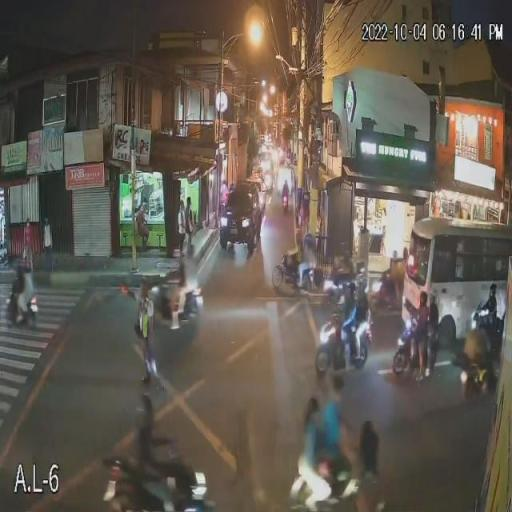helmet: (10, 253, 24, 266), (354, 276, 366, 289), (330, 278, 342, 290)
motorcycle: (100, 451, 211, 511), (281, 457, 383, 511), (316, 307, 370, 377), (456, 340, 495, 404), (391, 313, 429, 378), (155, 281, 206, 329), (270, 251, 313, 294), (470, 302, 508, 348), (6, 280, 40, 330), (280, 194, 290, 211)
rider: (135, 391, 191, 503), (308, 380, 349, 485), (328, 283, 355, 359), (166, 255, 192, 330), (463, 323, 495, 382), (11, 254, 34, 318), (352, 283, 370, 358), (482, 282, 500, 333), (282, 246, 301, 282), (281, 181, 290, 205)
